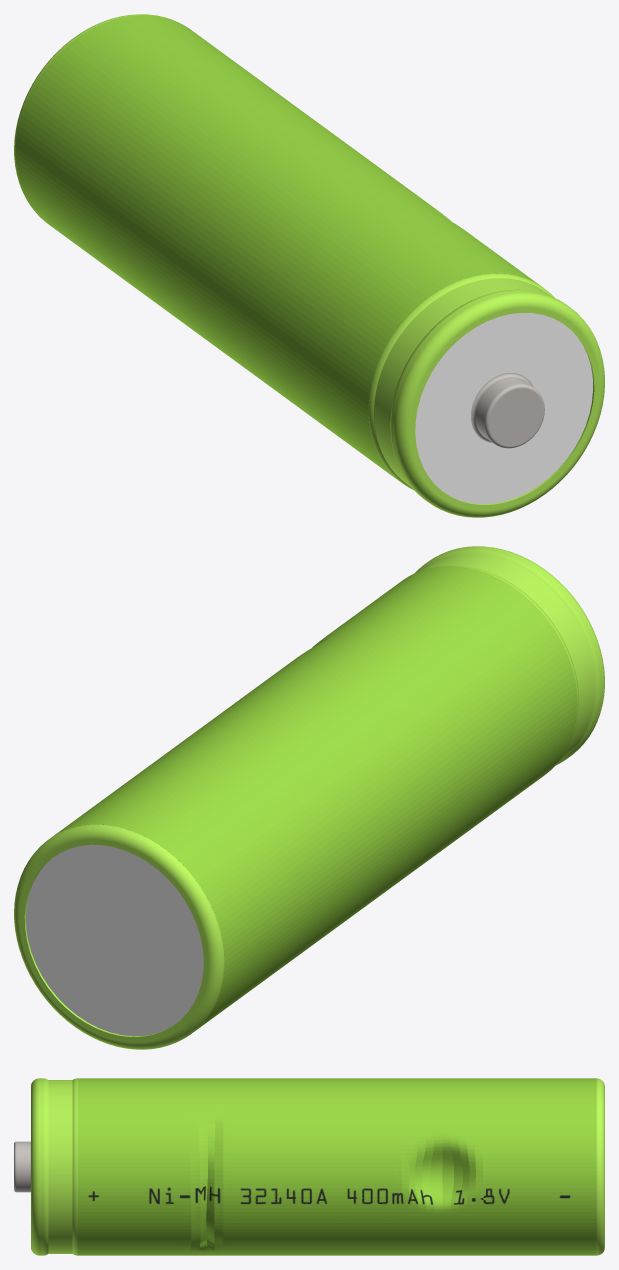
File: defect_8.glb
The picture shows the model from 3 angles, top to bottom: view 1: azimuth 30°, elevation 25°; view 2: azimuth 150°, elevation 25°; view 3: azimuth 270°, elevation 25°; orthographic projection. The views are drawn at different scales.
Parts seen in each view (by area): view 1: Cylinder, Cell_Top; view 2: Cylinder, Cell_bottom, Cell_Top; view 3: Cylinder, Cell_Top, Cell_bottom.
Boxes of the visible parts, x1,y1,x2,y2 form: Cylinder: (15, 15, 550, 480); Cell_Top: (368, 273, 604, 517); Cylinder: (41, 566, 577, 1031); Cell_bottom: (14, 824, 224, 1049); Cell_Top: (415, 546, 604, 765); Cylinder: (77, 1078, 596, 1255); Cell_Top: (14, 1078, 77, 1255); Cell_bottom: (596, 1078, 604, 1255).
Size of the model in its own units: 0.021 by 0.021 by 0.07.
Materials: 10 (1 with a texture image).
